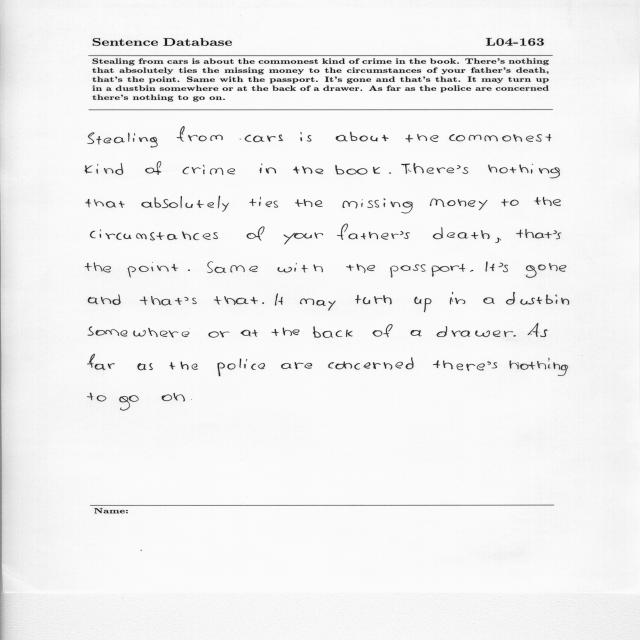word: (141, 196, 229, 212), (90, 230, 218, 241), (88, 326, 190, 338), (390, 264, 466, 278), (343, 199, 413, 214), (510, 358, 568, 376), (88, 133, 157, 148), (328, 358, 414, 370), (488, 164, 560, 178), (337, 224, 399, 240), (218, 359, 266, 377), (437, 326, 513, 337), (506, 292, 569, 305), (450, 134, 552, 142), (128, 262, 178, 277), (177, 127, 223, 142), (430, 199, 487, 210), (526, 263, 566, 278), (401, 163, 454, 174), (433, 360, 485, 371), (207, 262, 258, 273), (183, 165, 235, 175), (400, 227, 443, 239), (284, 233, 324, 245), (313, 326, 353, 338), (336, 132, 389, 141), (85, 163, 123, 175), (336, 165, 381, 175), (278, 263, 323, 273), (87, 354, 115, 370), (300, 299, 336, 311), (214, 296, 258, 305), (447, 230, 490, 239), (140, 296, 182, 305), (88, 294, 121, 305), (86, 199, 125, 208), (240, 135, 283, 143), (355, 295, 392, 304), (516, 229, 552, 238), (119, 395, 139, 411), (249, 197, 278, 208), (528, 323, 548, 337), (247, 226, 265, 241), (414, 297, 432, 312), (406, 134, 439, 142), (346, 264, 375, 273), (85, 263, 111, 273), (373, 324, 393, 337), (170, 361, 198, 370), (534, 197, 561, 206), (293, 166, 323, 174), (145, 161, 161, 175), (295, 199, 323, 207), (272, 328, 300, 336), (281, 362, 312, 369), (450, 292, 465, 305), (260, 164, 277, 174), (88, 393, 107, 401), (209, 331, 230, 338), (501, 199, 519, 206), (241, 330, 258, 337), (137, 363, 153, 370), (301, 132, 312, 142), (457, 165, 468, 174), (275, 294, 283, 306), (184, 297, 197, 304), (486, 262, 495, 272), (498, 263, 508, 272), (174, 393, 185, 401), (483, 297, 495, 304), (553, 231, 562, 240), (410, 330, 422, 336), (488, 362, 498, 369), (162, 395, 172, 401), (496, 238, 502, 243), (470, 270, 474, 272), (513, 335, 516, 337), (389, 172, 391, 174), (188, 269, 190, 271), (262, 302, 264, 304)
